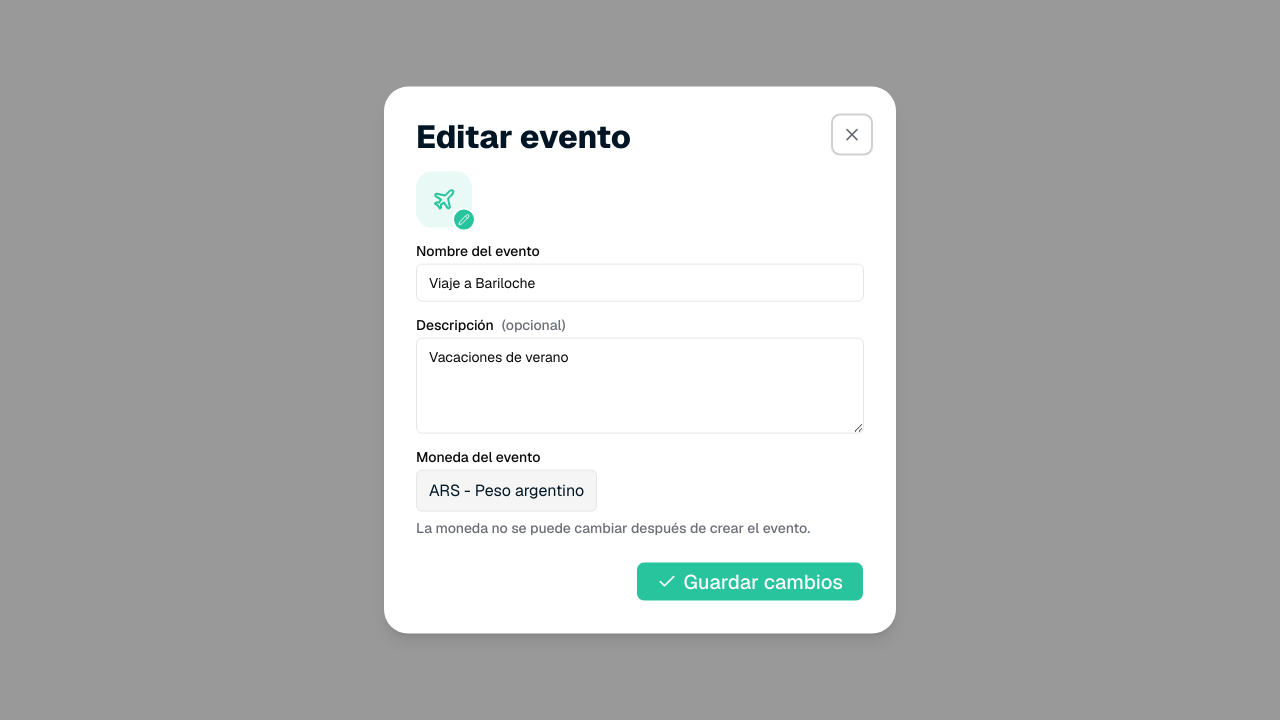
Test: EditEventDialog › muestra un error claro y conserva los valores si falla el guardado
Click the button "Guardar cambios". click: {"x": 750, "y": 581}
box: [636,561,864,601]
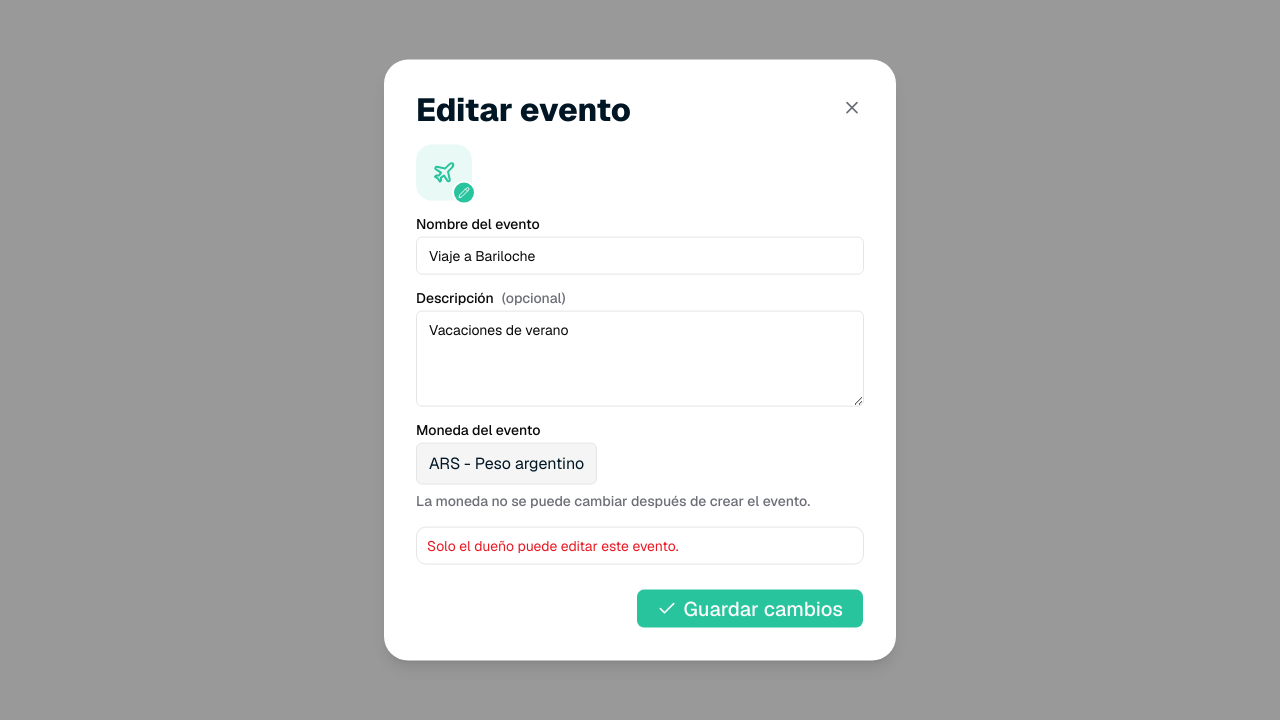
expect the field labelled "Nombre del evento" holds "Viaje a Bariloche": met, box [416,236,864,274]
expect the text "Solo el dueño puede editar este evento." is shown: met, box [427,536,678,554]
